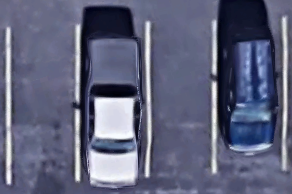Occupied: (78, 22, 149, 177), (214, 20, 285, 172)
Vacant: (8, 27, 79, 182), (148, 21, 215, 173)
